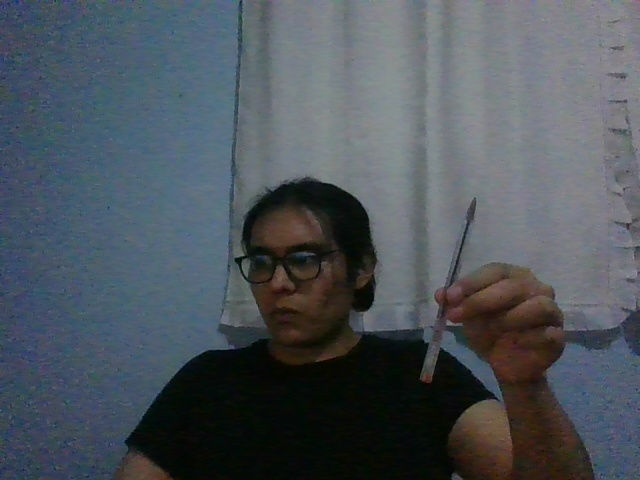pluma: (418, 195, 477, 384)
